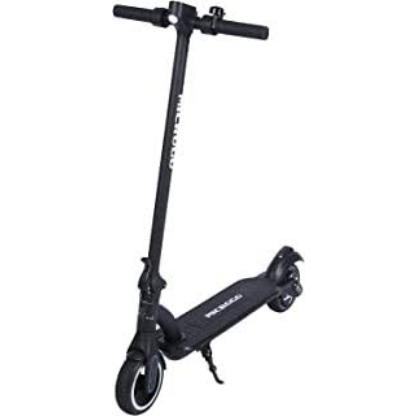bike: (113, 1, 306, 416), (113, 245, 305, 416)
